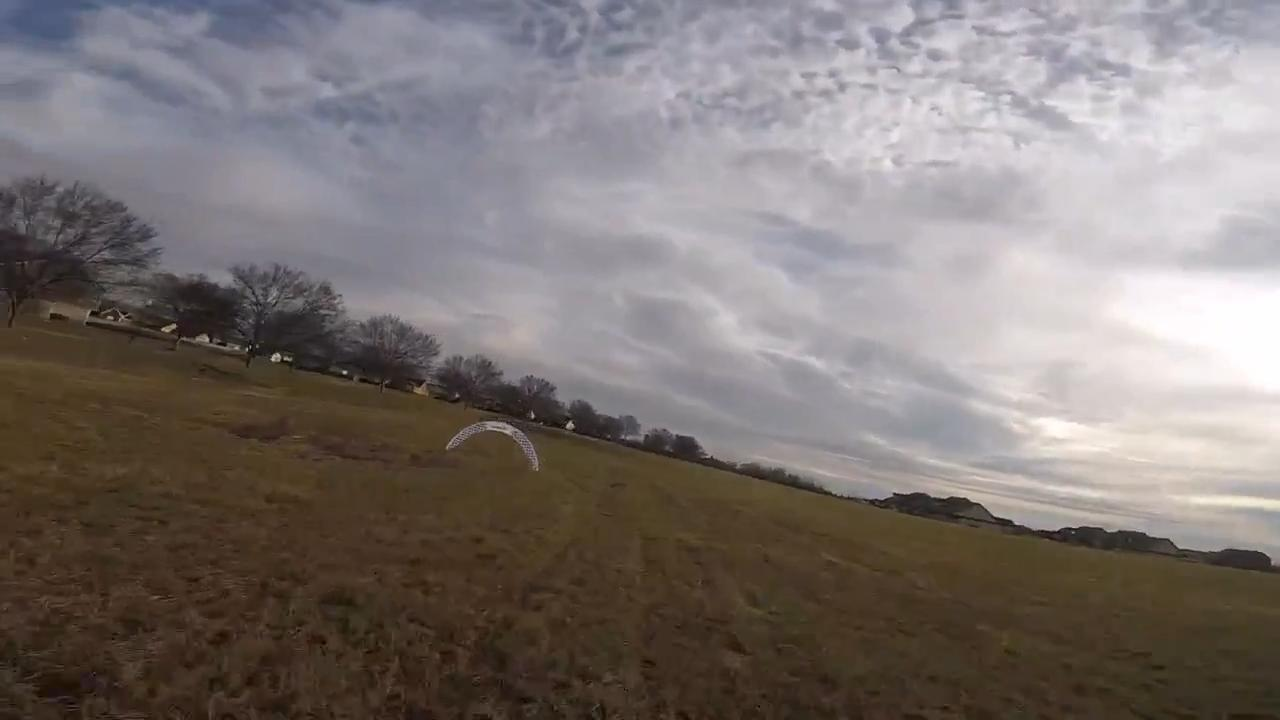gate: (441, 417, 541, 473)
